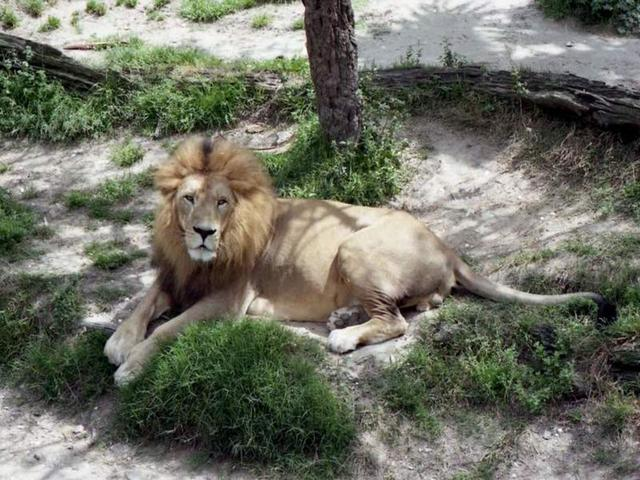lion: (101, 111, 605, 396)
